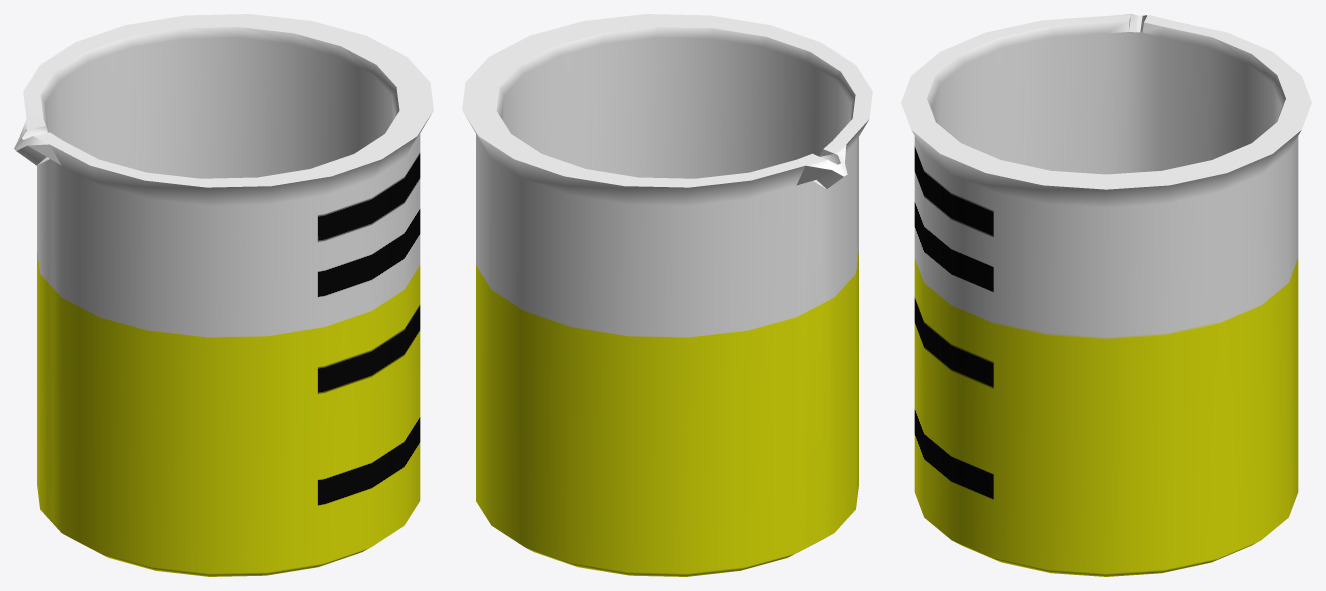
Rendered from beakerYellow.fbx.
3 renders of one model, left to right at view 1: azimuth 30°, elevation 25°; view 2: azimuth 150°, elevation 25°; view 3: azimuth 270°, elevation 25°, orthographic.
Visible parts, largest first — view 1: pasted__polySurface7; view 2: pasted__polySurface7; view 3: pasted__polySurface7.
Part boxes in pixels (x1=…): pasted__polySurface7: x1=14, y1=14, x2=433, y2=576; pasted__polySurface7: x1=462, y1=14, x2=872, y2=576; pasted__polySurface7: x1=901, y1=14, x2=1311, y2=576.
Size of the model in its own units: 0.6211 by 0.6355 by 0.5923.
Materials: 1 (1 with a texture image).
